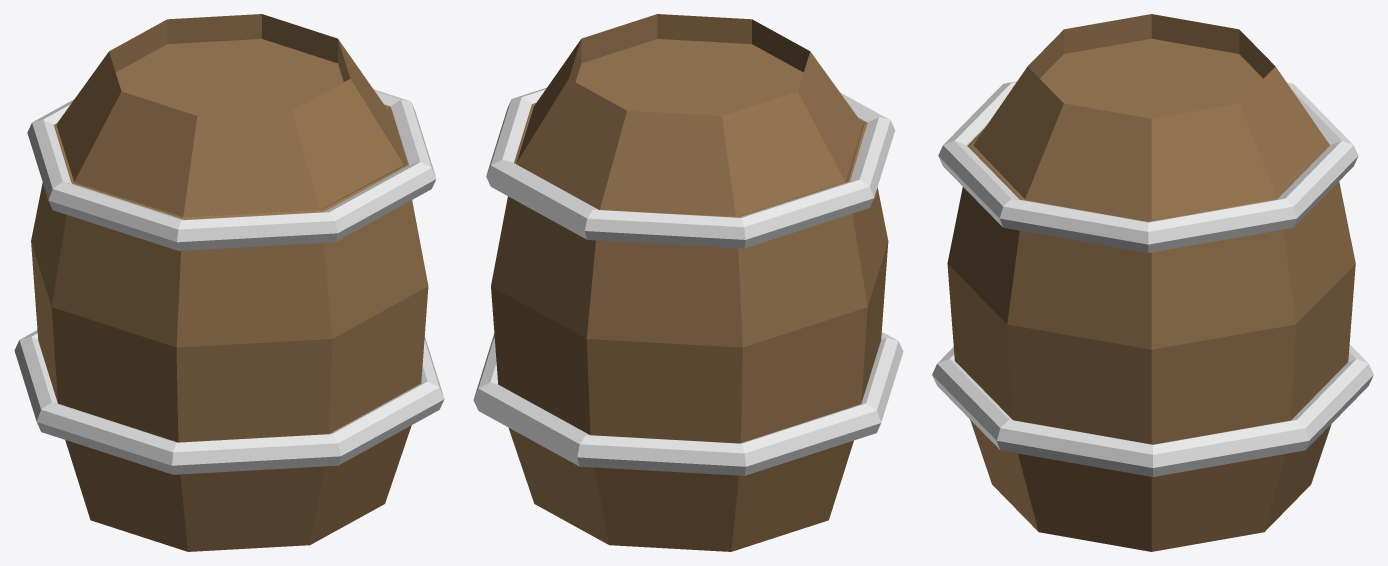
The model's file is barrel.fbx.
3 renders of one model, left to right at view 1: azimuth 30°, elevation 25°; view 2: azimuth 150°, elevation 25°; view 3: azimuth 270°, elevation 25°, orthographic.
Parts seen in each view (by area): view 1: Cylinder, Torus, Torus.001; view 2: Cylinder, Torus, Torus.001; view 3: Cylinder, Torus, Torus.001.
Boxes of the visible parts, <box> form: Cylinder: <box>31,14,428,551</box>; Torus: <box>27,89,436,250</box>; Torus.001: <box>14,330,444,474</box>; Cylinder: <box>491,14,888,551</box>; Torus: <box>486,87,895,248</box>; Torus.001: <box>473,332,903,475</box>; Cylinder: <box>947,14,1355,551</box>; Torus: <box>938,81,1358,252</box>; Torus.001: <box>932,344,1373,476</box>.
Bounding box in the file's own units: 244 × 255 × 244.
